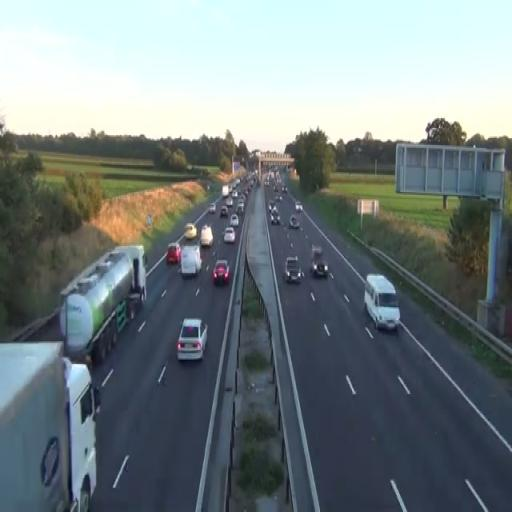Bus: (60, 244, 148, 368)
Car: (364, 274, 400, 332), (176, 318, 208, 362), (180, 244, 202, 278), (283, 254, 303, 284), (212, 260, 230, 285), (166, 242, 182, 264), (200, 224, 214, 248), (224, 227, 235, 244), (290, 215, 300, 229), (219, 204, 228, 218), (230, 213, 239, 226)
Truck: (0, 341, 100, 509)
